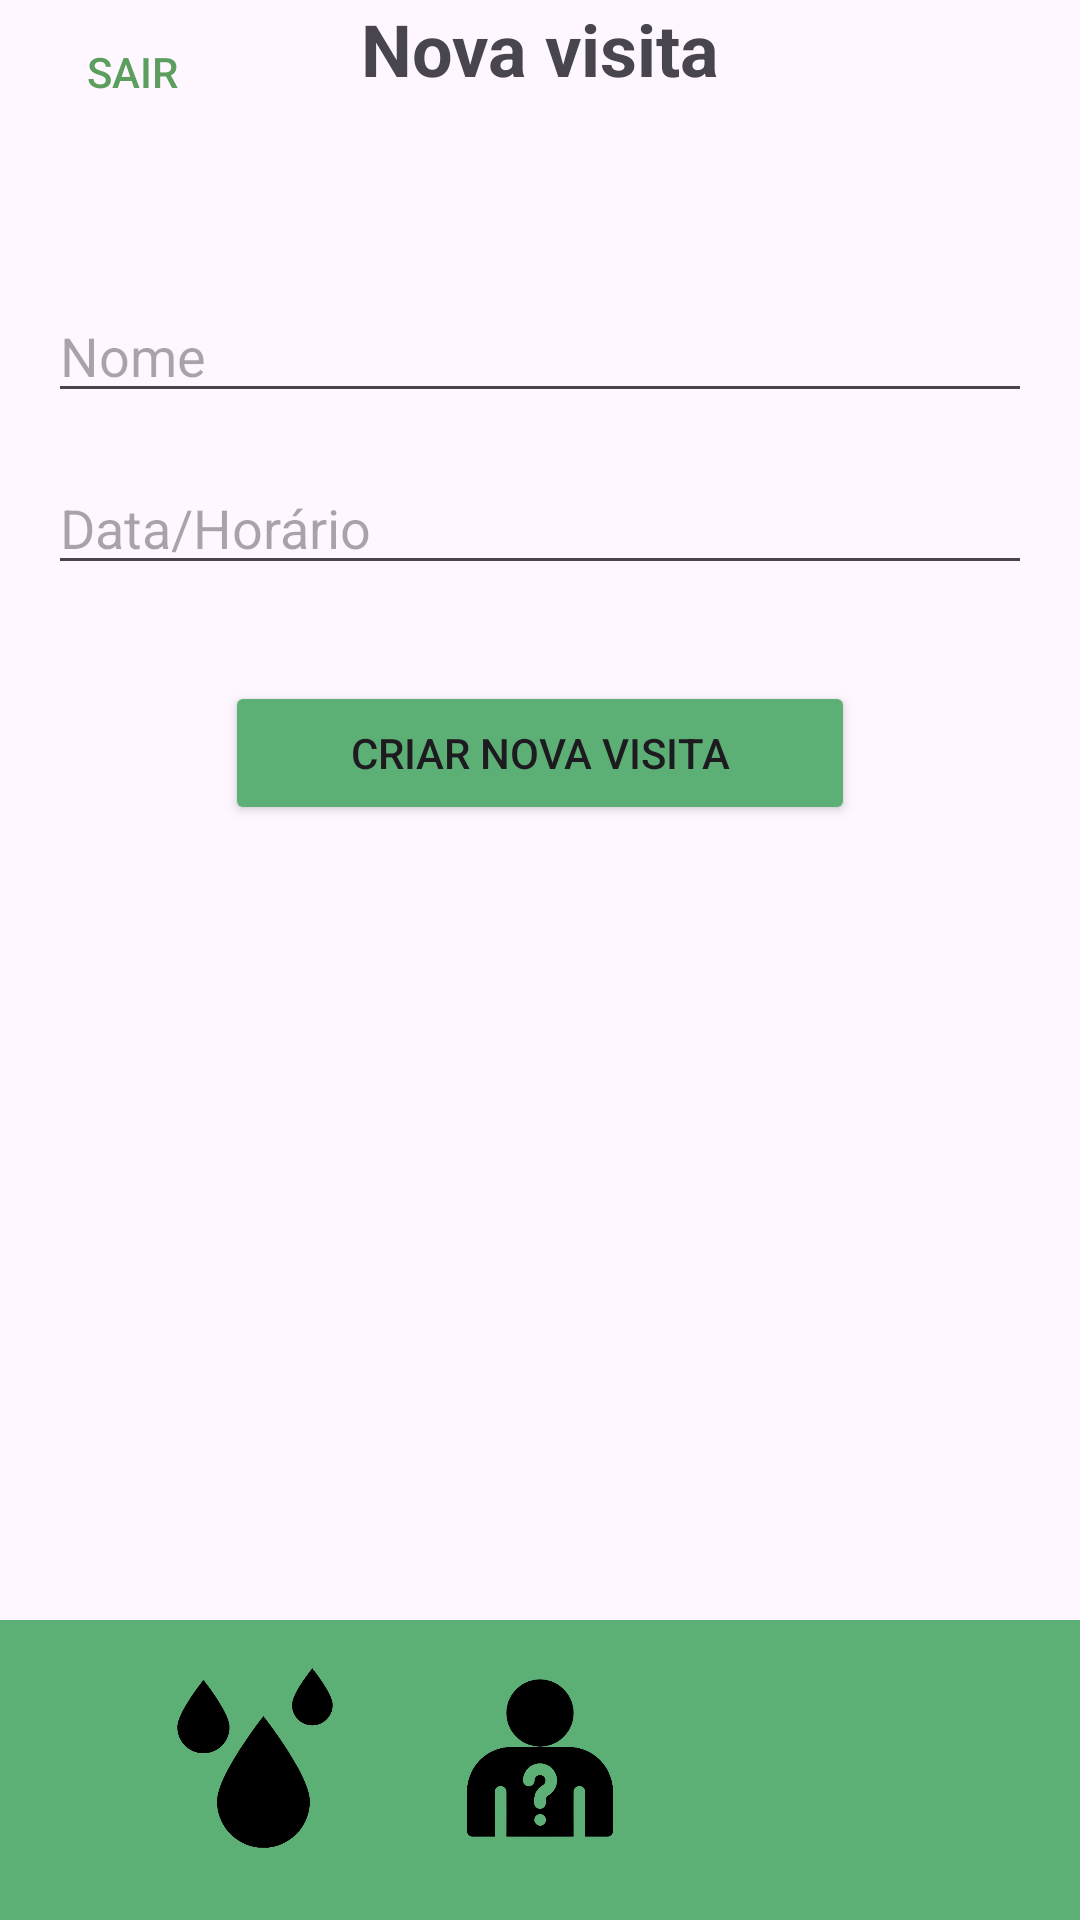

Locate icon controls on the screen. Image size 1080*1920, boxes as (x1, y1, x2, y2).
rega: (177, 1668, 333, 1848)
visitante: (467, 1679, 613, 1837)
